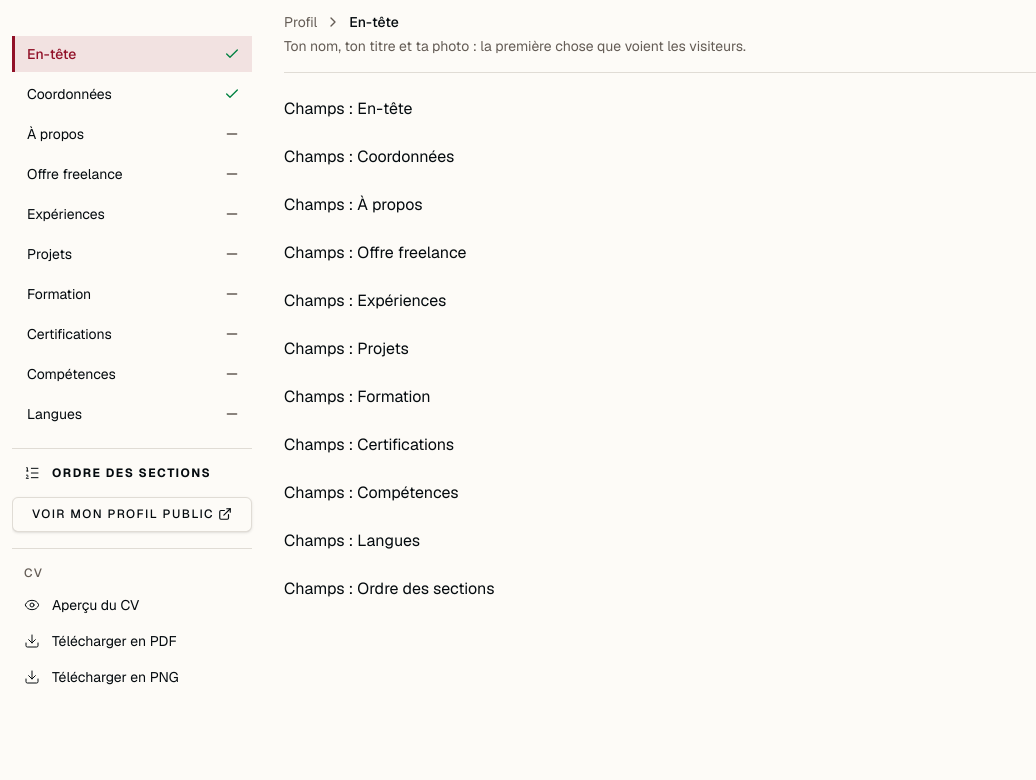
Test: ProfileSectionsNav › liste les sections, les affiche toutes et fait défiler jusqu'à celle choisie
expect the text with test id "breadcrumb-current" reads "En-tête": met, box x1=349 y1=13 x2=399 y2=31
Step 1. Click the button "Offre freelance" → (132,174), box x1=12 y1=156 x2=252 y2=192
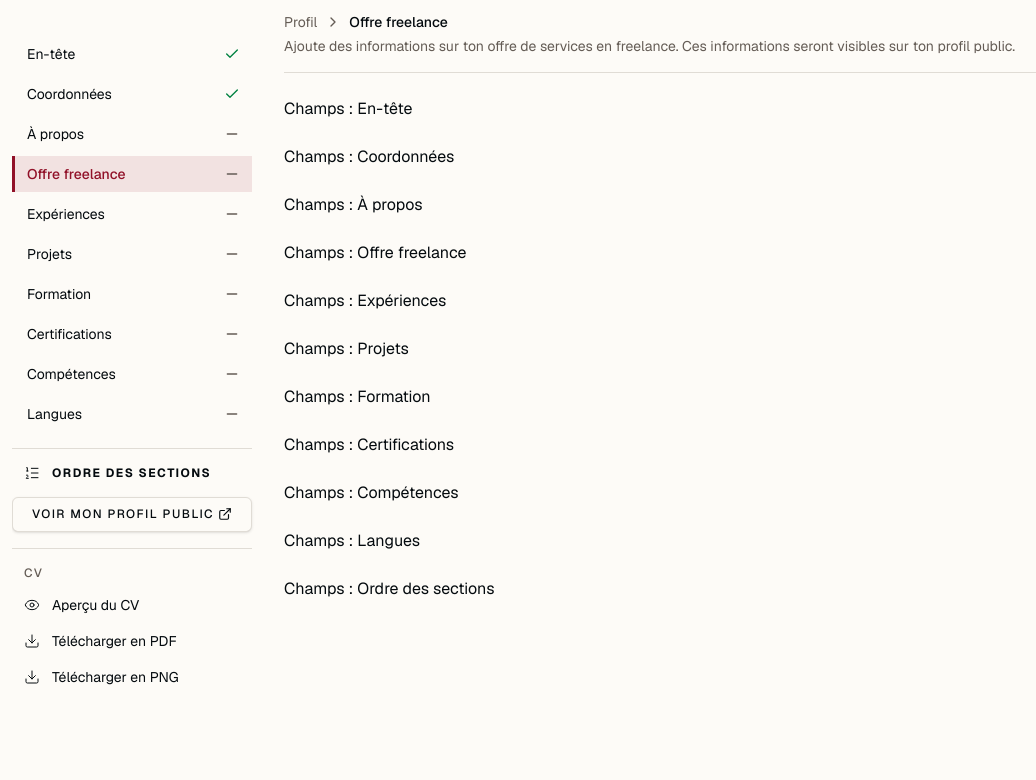
expect the text with test id "breadcrumb-current" reads "Offre freelance": met, box x1=349 y1=13 x2=448 y2=31
expect the text "Ces informations seront visibles sur ton profil public" is shown: met, box x1=284 y1=37 x2=1015 y2=55
